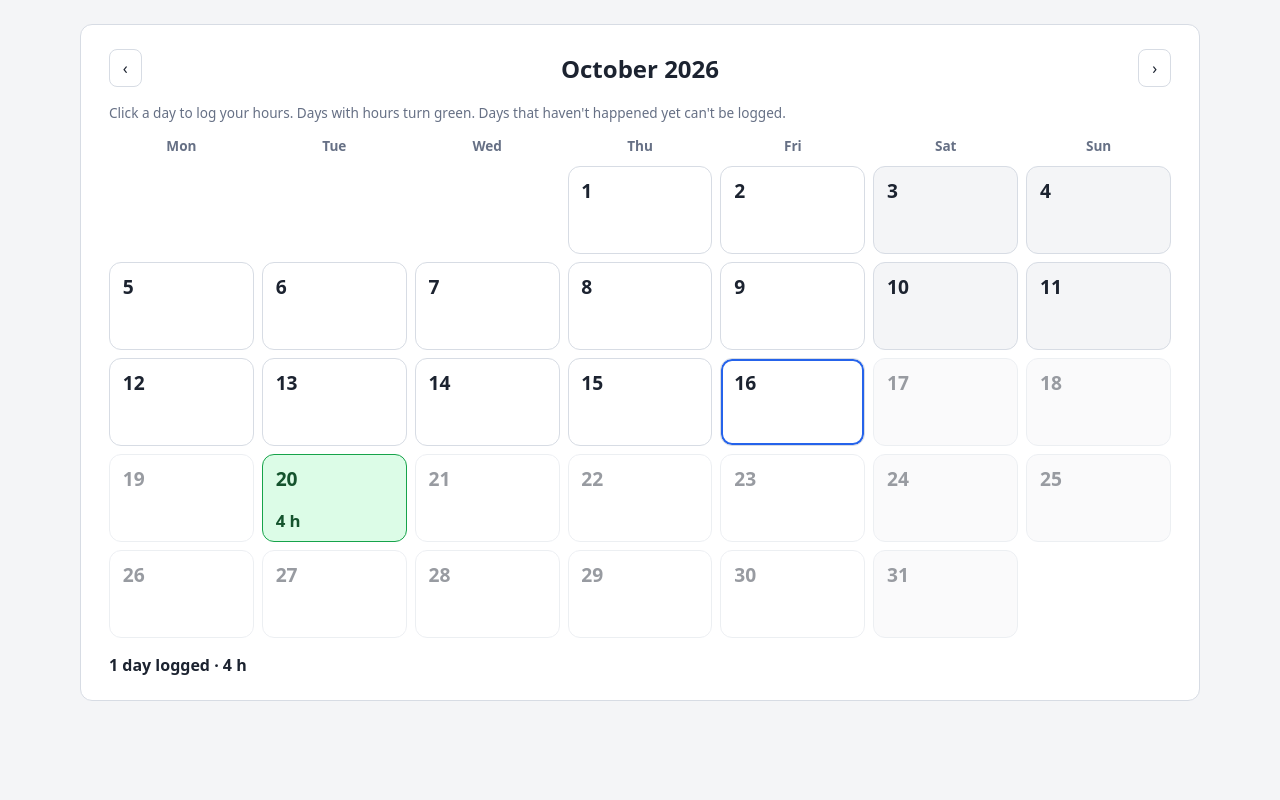
Test case: days in the future › only offers to clear hours that are already there (they can never be set)
This screenshot has width=1280, height=800.
What coordinates should you click on to do the following:
click the button named "Tue, Oct 20,"
I would click on:
 (334, 498)
Its box is [262,454,407,542].
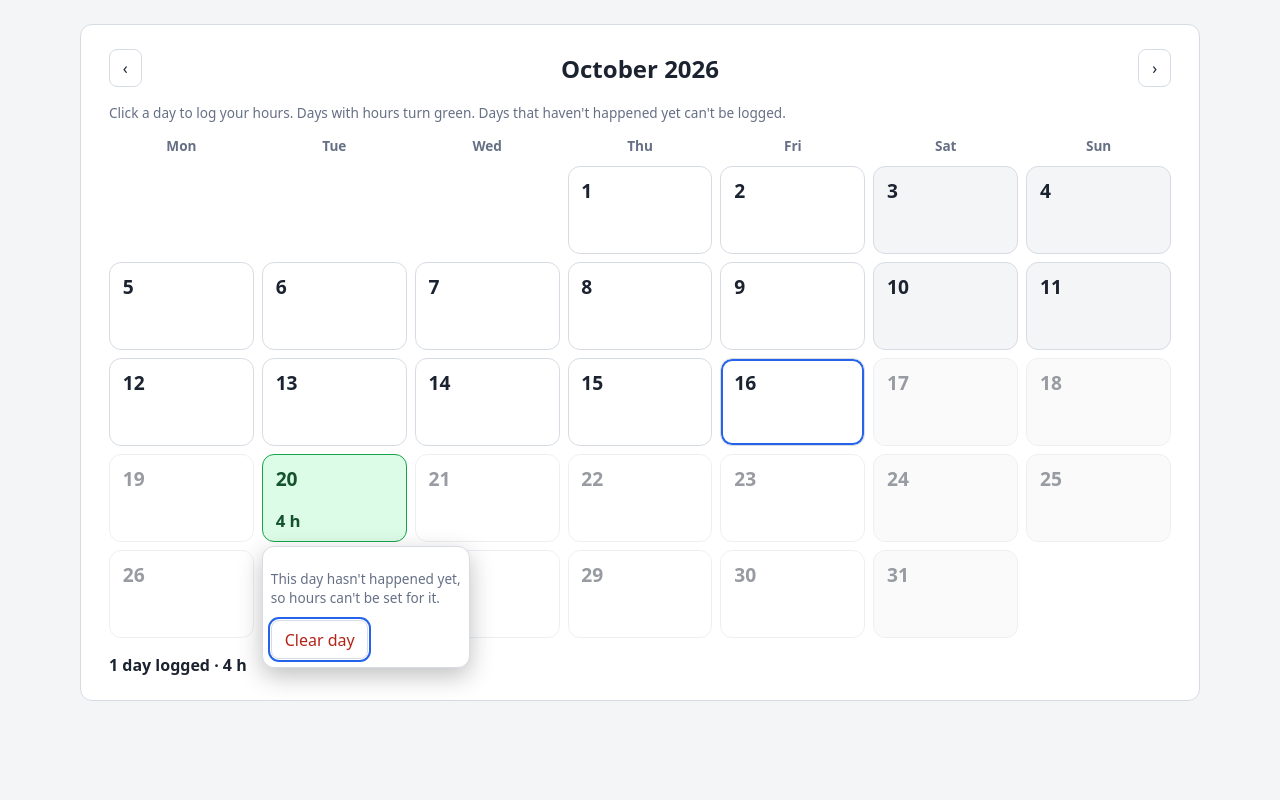
What coordinates should you click on to do the following:
click the button "Clear day"
I would click on:
 (320, 640)
Its box is [271,620,368,659].
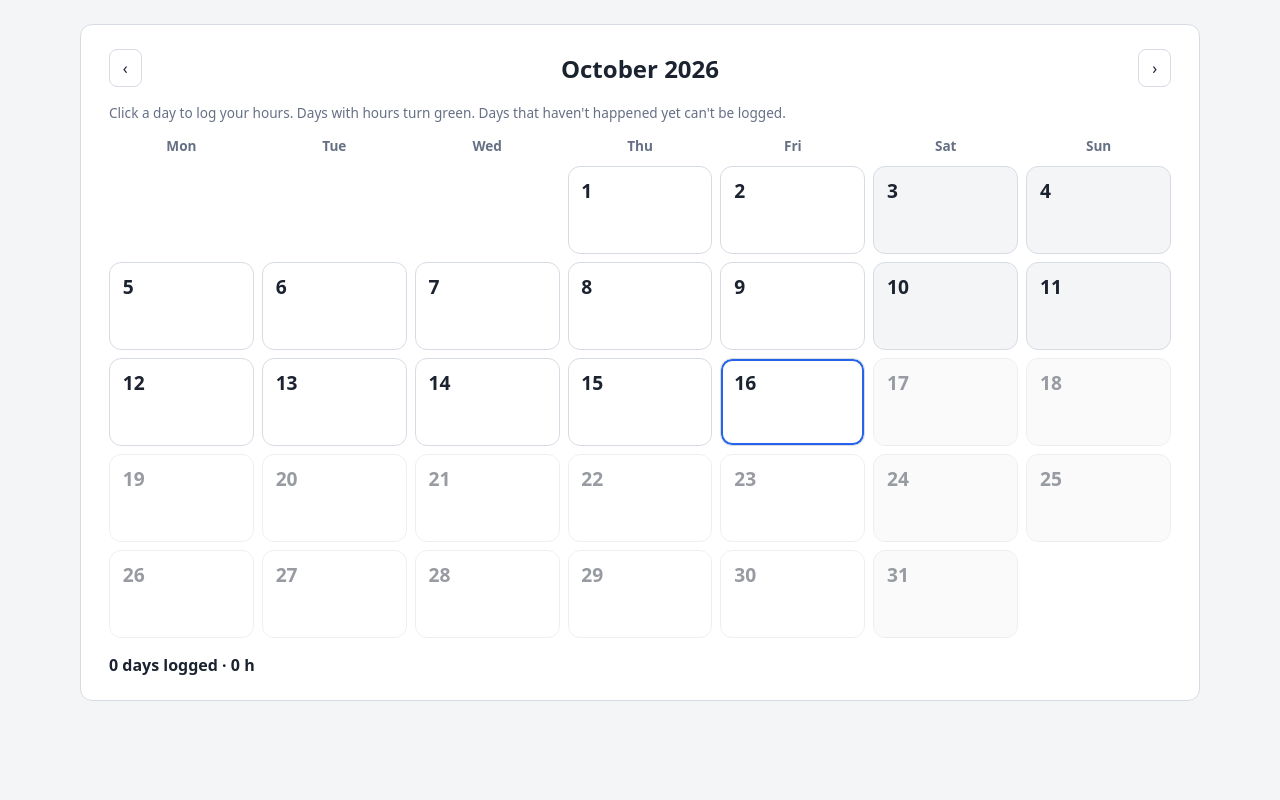
Expected: the button named "Tue, Oct 20, nothing logged" is disabled, [262,454,407,542]
